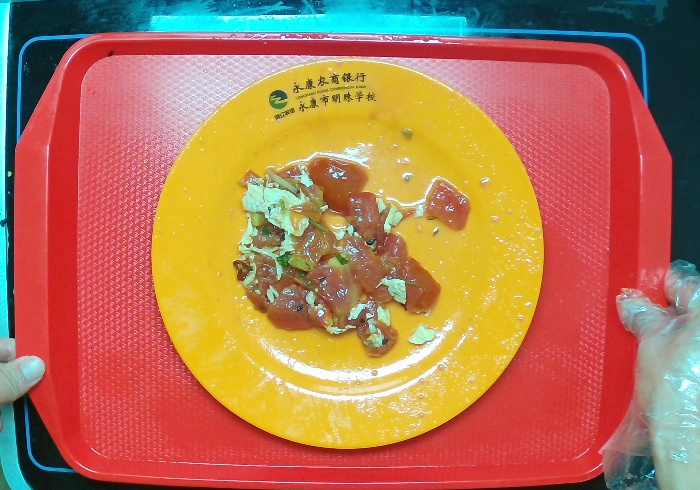YKMZ-Ju_Se_Mian_Pan: (151, 59, 546, 452)
